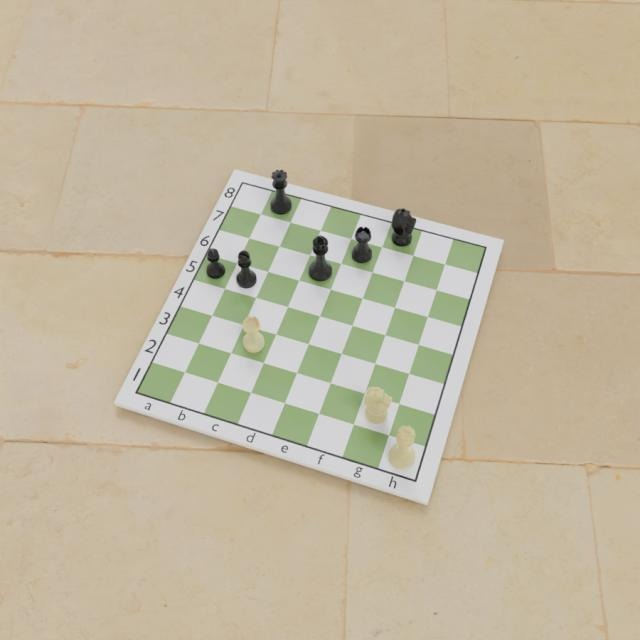black-bishop: (235, 249, 257, 291)
black-king: (306, 234, 333, 282)
black-knight: (391, 208, 416, 248)
black-pawn: (206, 248, 226, 280)
black-queen: (269, 169, 293, 215)
black-rook: (350, 226, 374, 266)
white-king: (387, 422, 417, 470)
white-knight: (364, 385, 392, 422)
white-rook: (240, 313, 264, 356)
